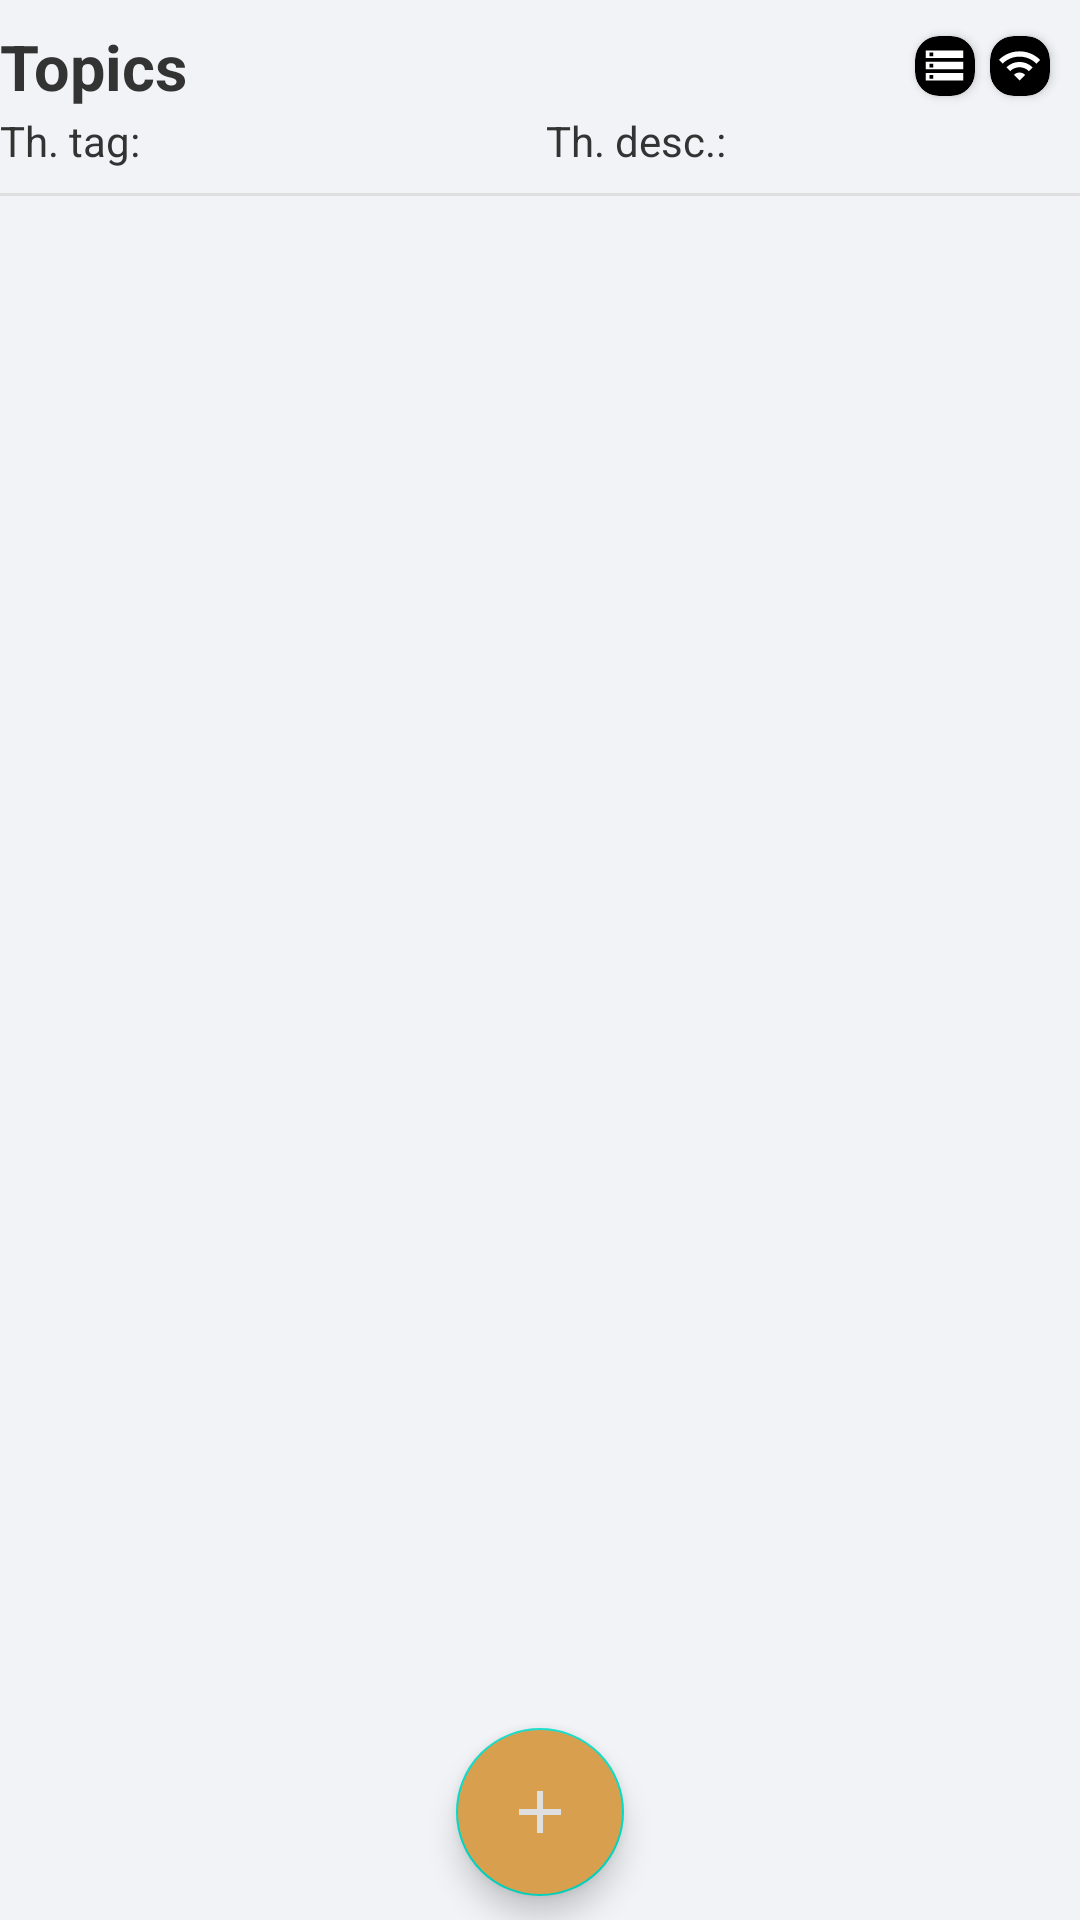

Named icons in this screenshot (1080 x 1920) and their centers, (x=x, y=y):
add: (x=540, y=1812)
storage: (x=944, y=65)
wifi: (x=1019, y=66)
